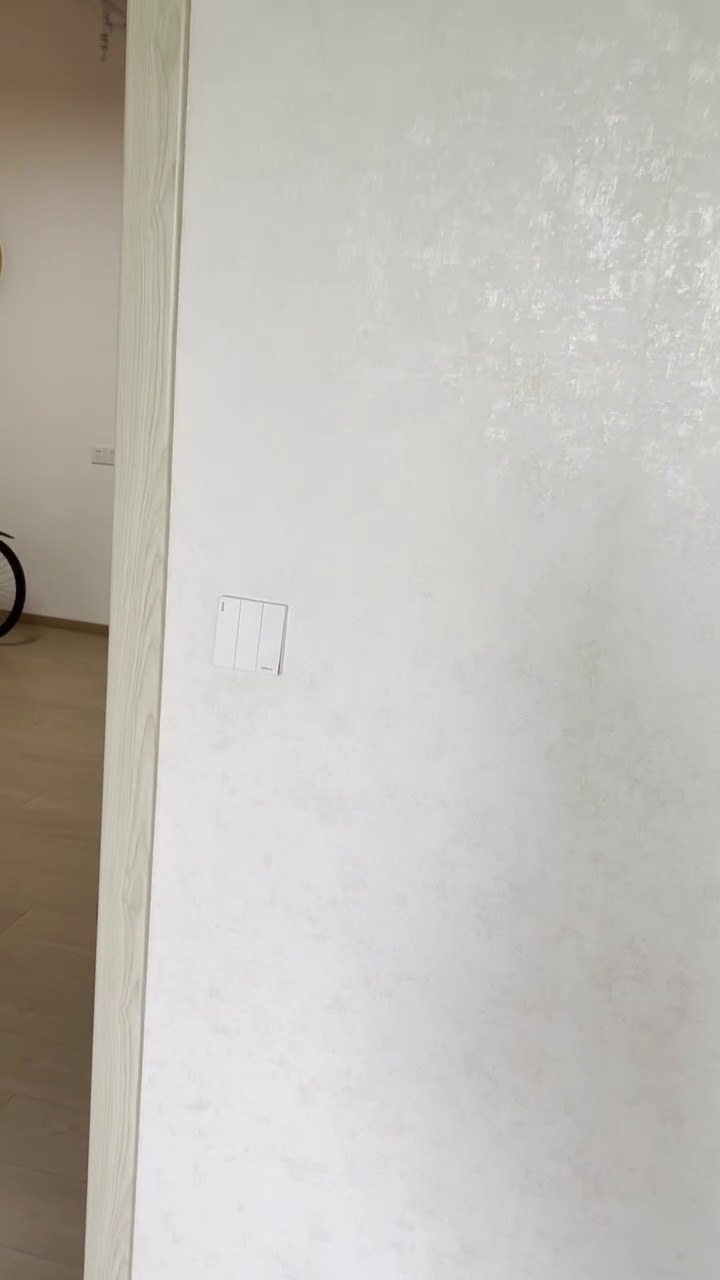button: (205, 593, 292, 676)
